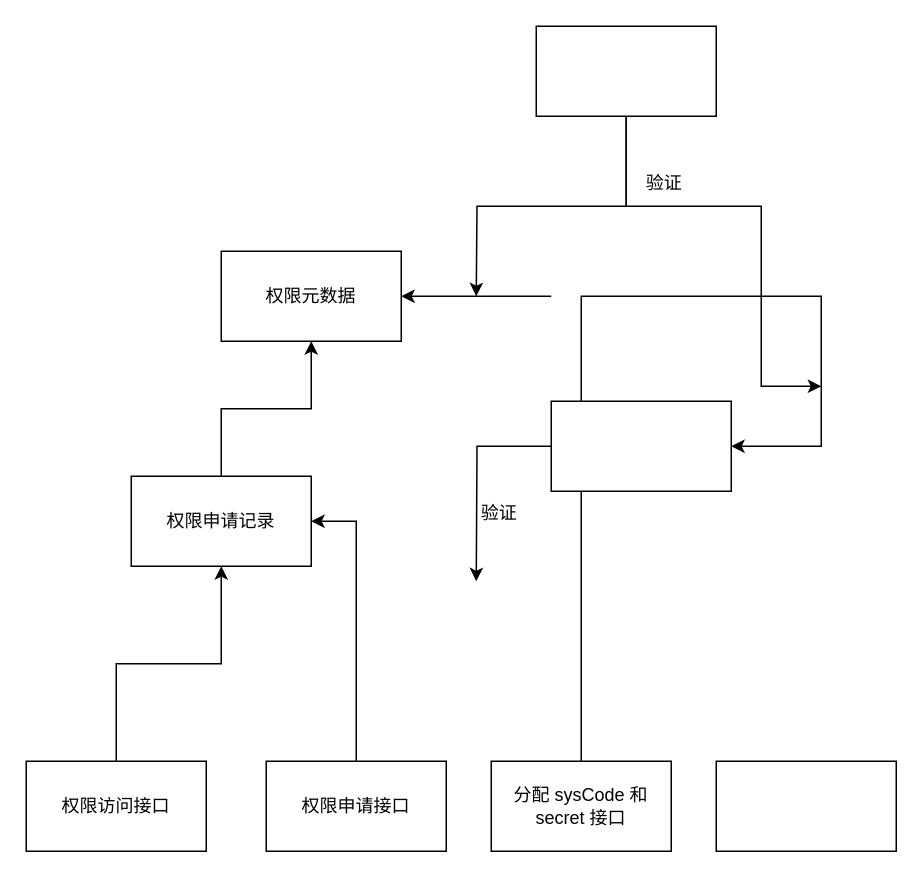
Image size: 923x878. Some labels were removed from this diagram. The shapes that lost their labels are listed below. From the top down, each one's centre as x and y in pixels, then its label:
At (625,70): "配置文件".
At (640,445): "sysCode 和 secret 关系".
At (805,805): "权限元数据 内容编辑接口".
